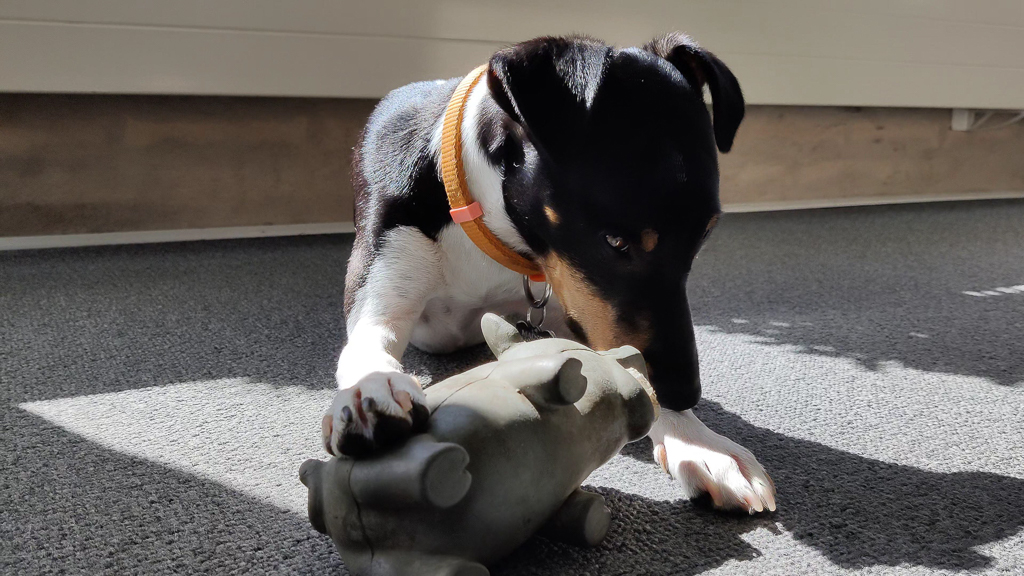Dog: (287, 28, 797, 522)
